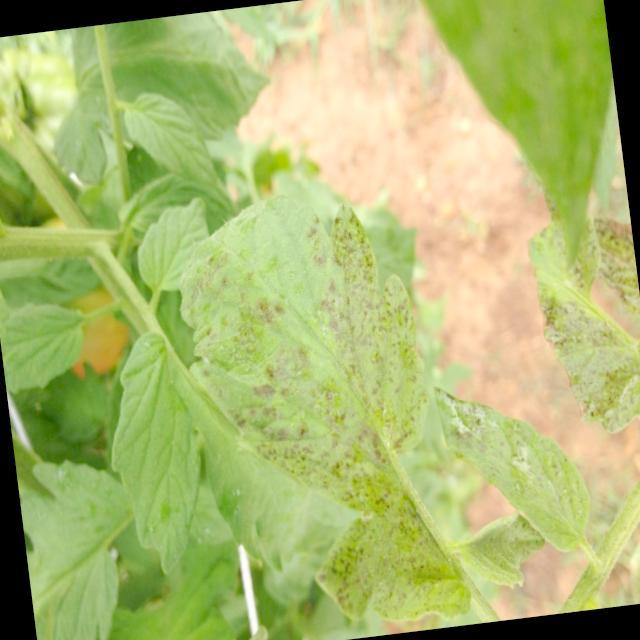Tomato Septoria spot leaf: (164, 159, 474, 640), (431, 363, 598, 570), (523, 209, 640, 443)
Tomato healthy leaf: (93, 324, 216, 582), (118, 81, 222, 200), (128, 193, 216, 300), (0, 295, 94, 394)
